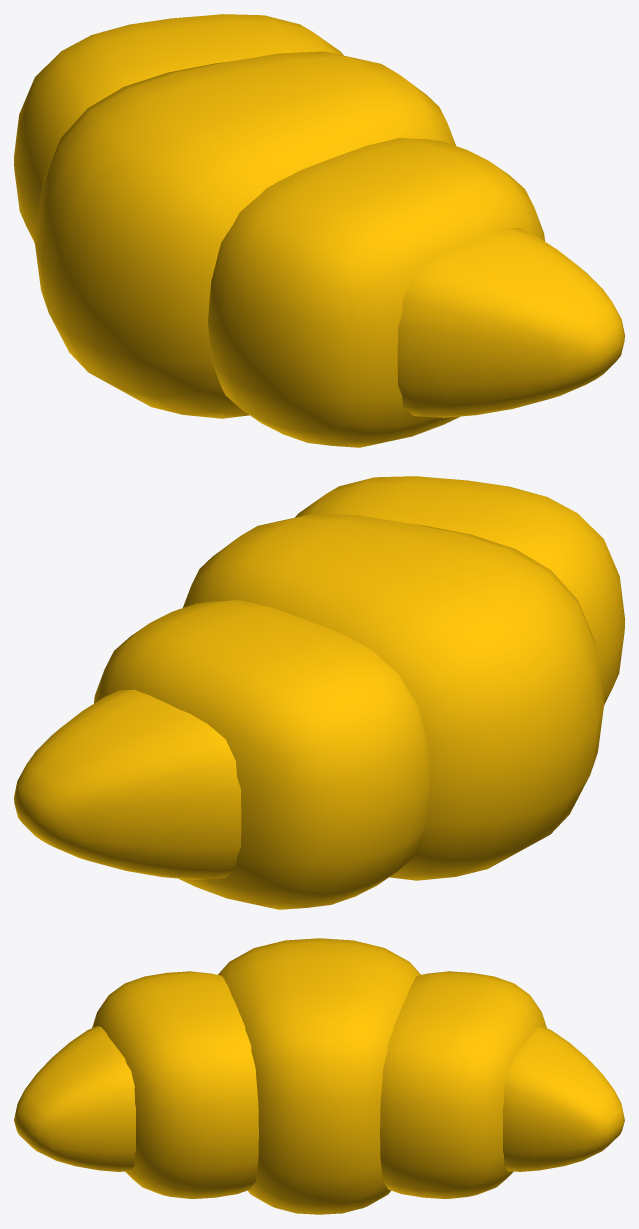
File: Store_3_Croissant_1.glb
3 renders of one model, top to bottom at view 1: azimuth 30°, elevation 25°; view 2: azimuth 150°, elevation 25°; view 3: azimuth 270°, elevation 25°, orthographic. The views are drawn at different scales.
Visible parts, largest first — view 1: Store_3_Croissant_1; view 2: Store_3_Croissant_1; view 3: Store_3_Croissant_1.
Boxes of the visible parts, x1,y1,x2,y2 form: Store_3_Croissant_1: [14, 14, 624, 447]; Store_3_Croissant_1: [14, 476, 624, 909]; Store_3_Croissant_1: [14, 938, 624, 1214].
Size of the model in its own units: 0.2631 by 0.189 by 0.4989.
1 material, 1 textured.
